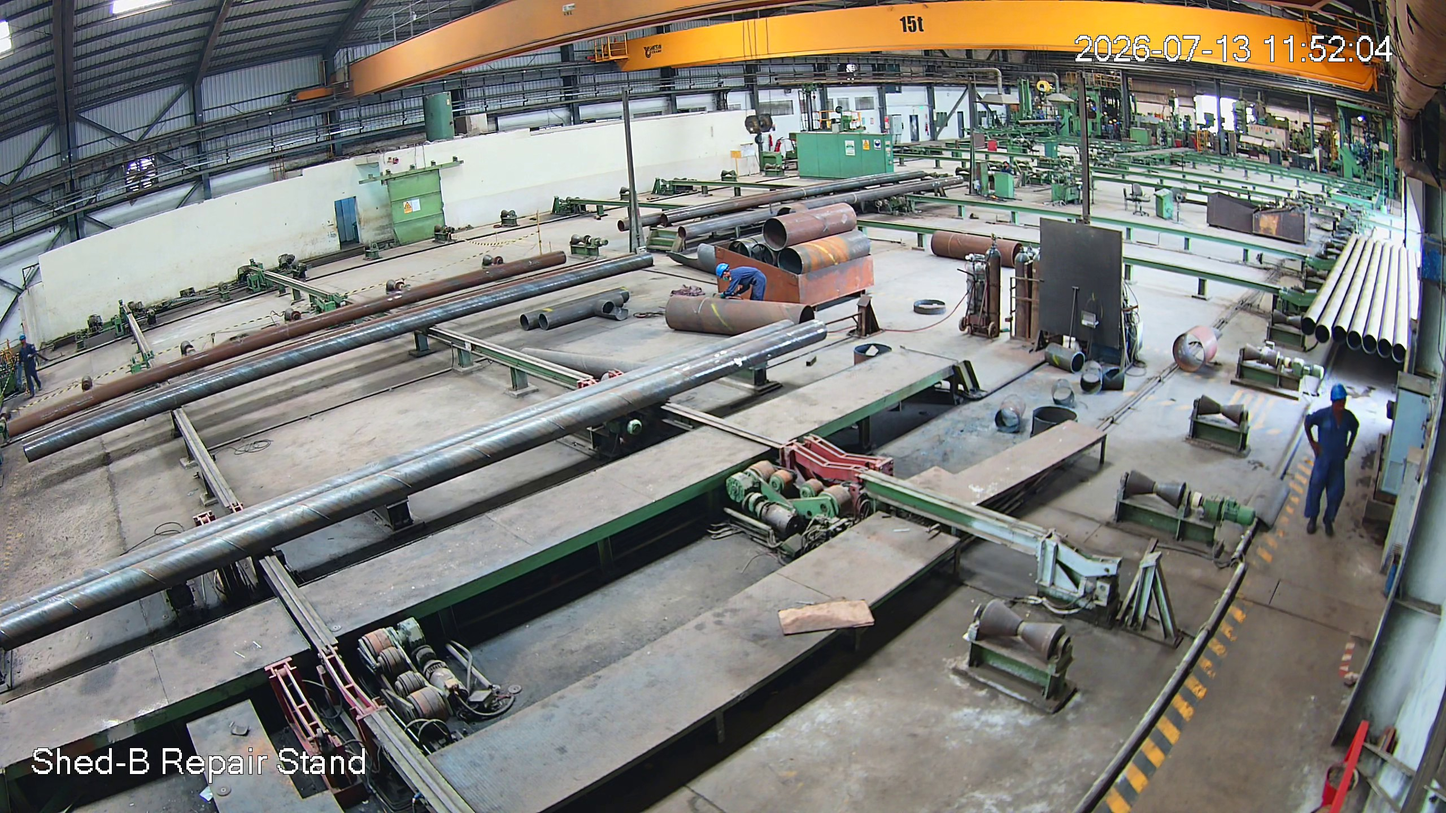Helmet: (1326, 384, 1361, 419), (712, 262, 733, 282)
Person: (1305, 389, 1359, 530), (715, 263, 763, 303)
